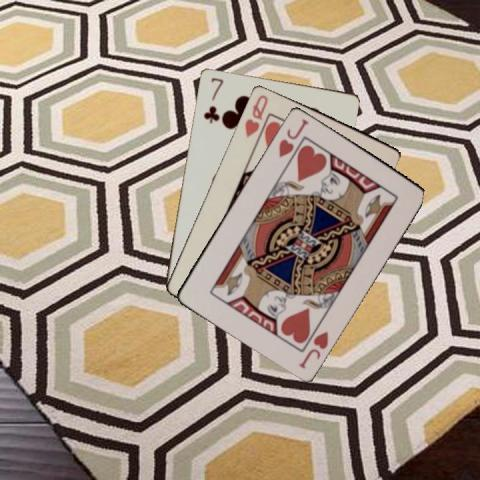7c: (200, 74, 224, 124)
Jh: (275, 114, 310, 158), (295, 328, 330, 370)
Qh: (242, 91, 270, 139)
